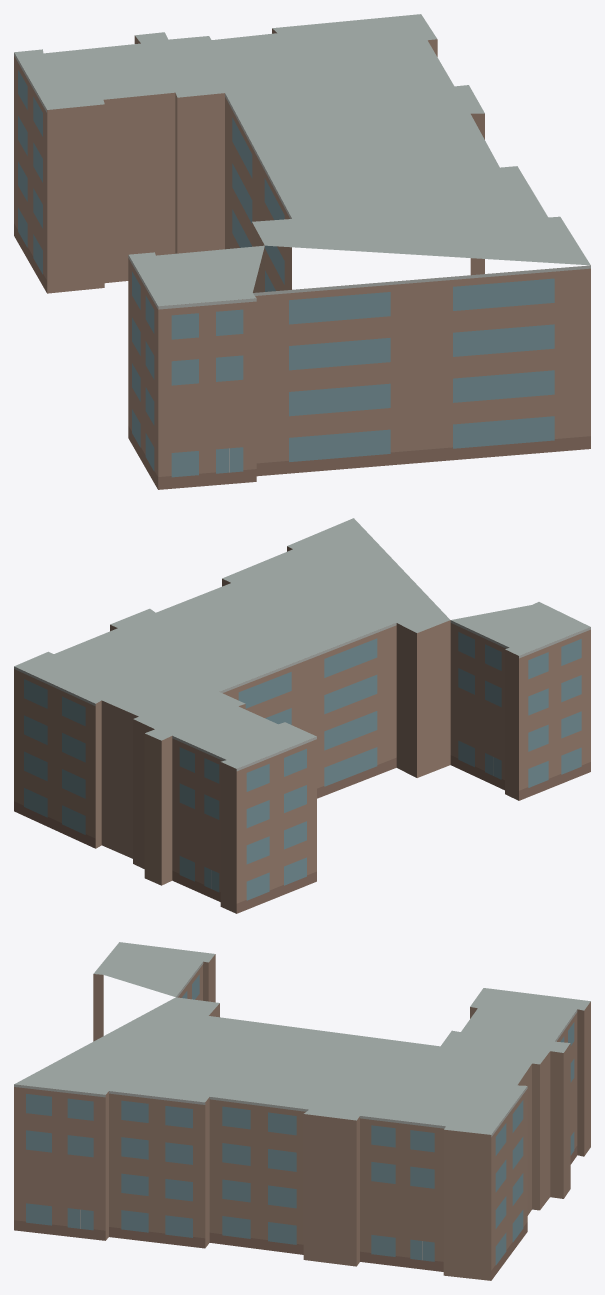
The model's file is survey-upis-32856523.glb.
The picture shows the model from 3 angles, top to bottom: view 1: azimuth 30°, elevation 25°; view 2: azimuth 150°, elevation 25°; view 3: azimuth 270°, elevation 25°; orthographic projection. The views are drawn at different scales.
Visible parts, largest first — view 1: survey-upis-32856523.tmp; view 2: survey-upis-32856523.tmp; view 3: survey-upis-32856523.tmp.
Boxes of the visible parts, <box> form: survey-upis-32856523.tmp: <box>14,14,590,489</box>; survey-upis-32856523.tmp: <box>14,518,590,913</box>; survey-upis-32856523.tmp: <box>14,942,590,1280</box>.
Bounding box in the file's own units: 39.09 × 13.8 × 49.42.
